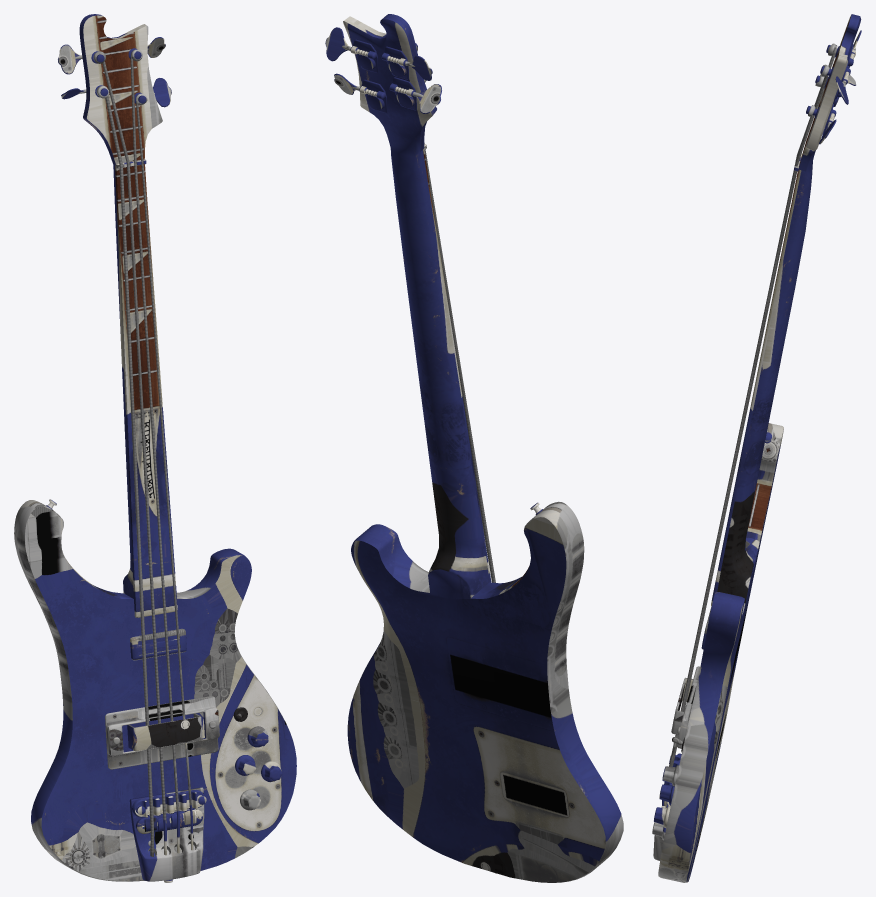
Rendered from bass.obj.
The picture shows the model from 3 angles, left to right: view 1: azimuth 30°, elevation 25°; view 2: azimuth 150°, elevation 25°; view 3: azimuth 270°, elevation 25°; orthographic projection. The views are drawn at different scales.
Parts seen in each view (by area): view 1: object_0.005; view 2: object_0.005; view 3: object_0.005.
Part boxes in pixels (box(x1,y1,x2,y2)): object_0.005: box(14, 14, 296, 882); object_0.005: box(325, 14, 623, 882); object_0.005: box(652, 14, 861, 882).
Bounding box in the file's own units: 0.7682 × 2.42 × 0.5404.
1 material, 1 textured.
